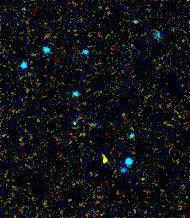star: (87, 145, 117, 175)
